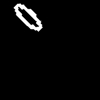chain: (14, 4, 41, 30)
